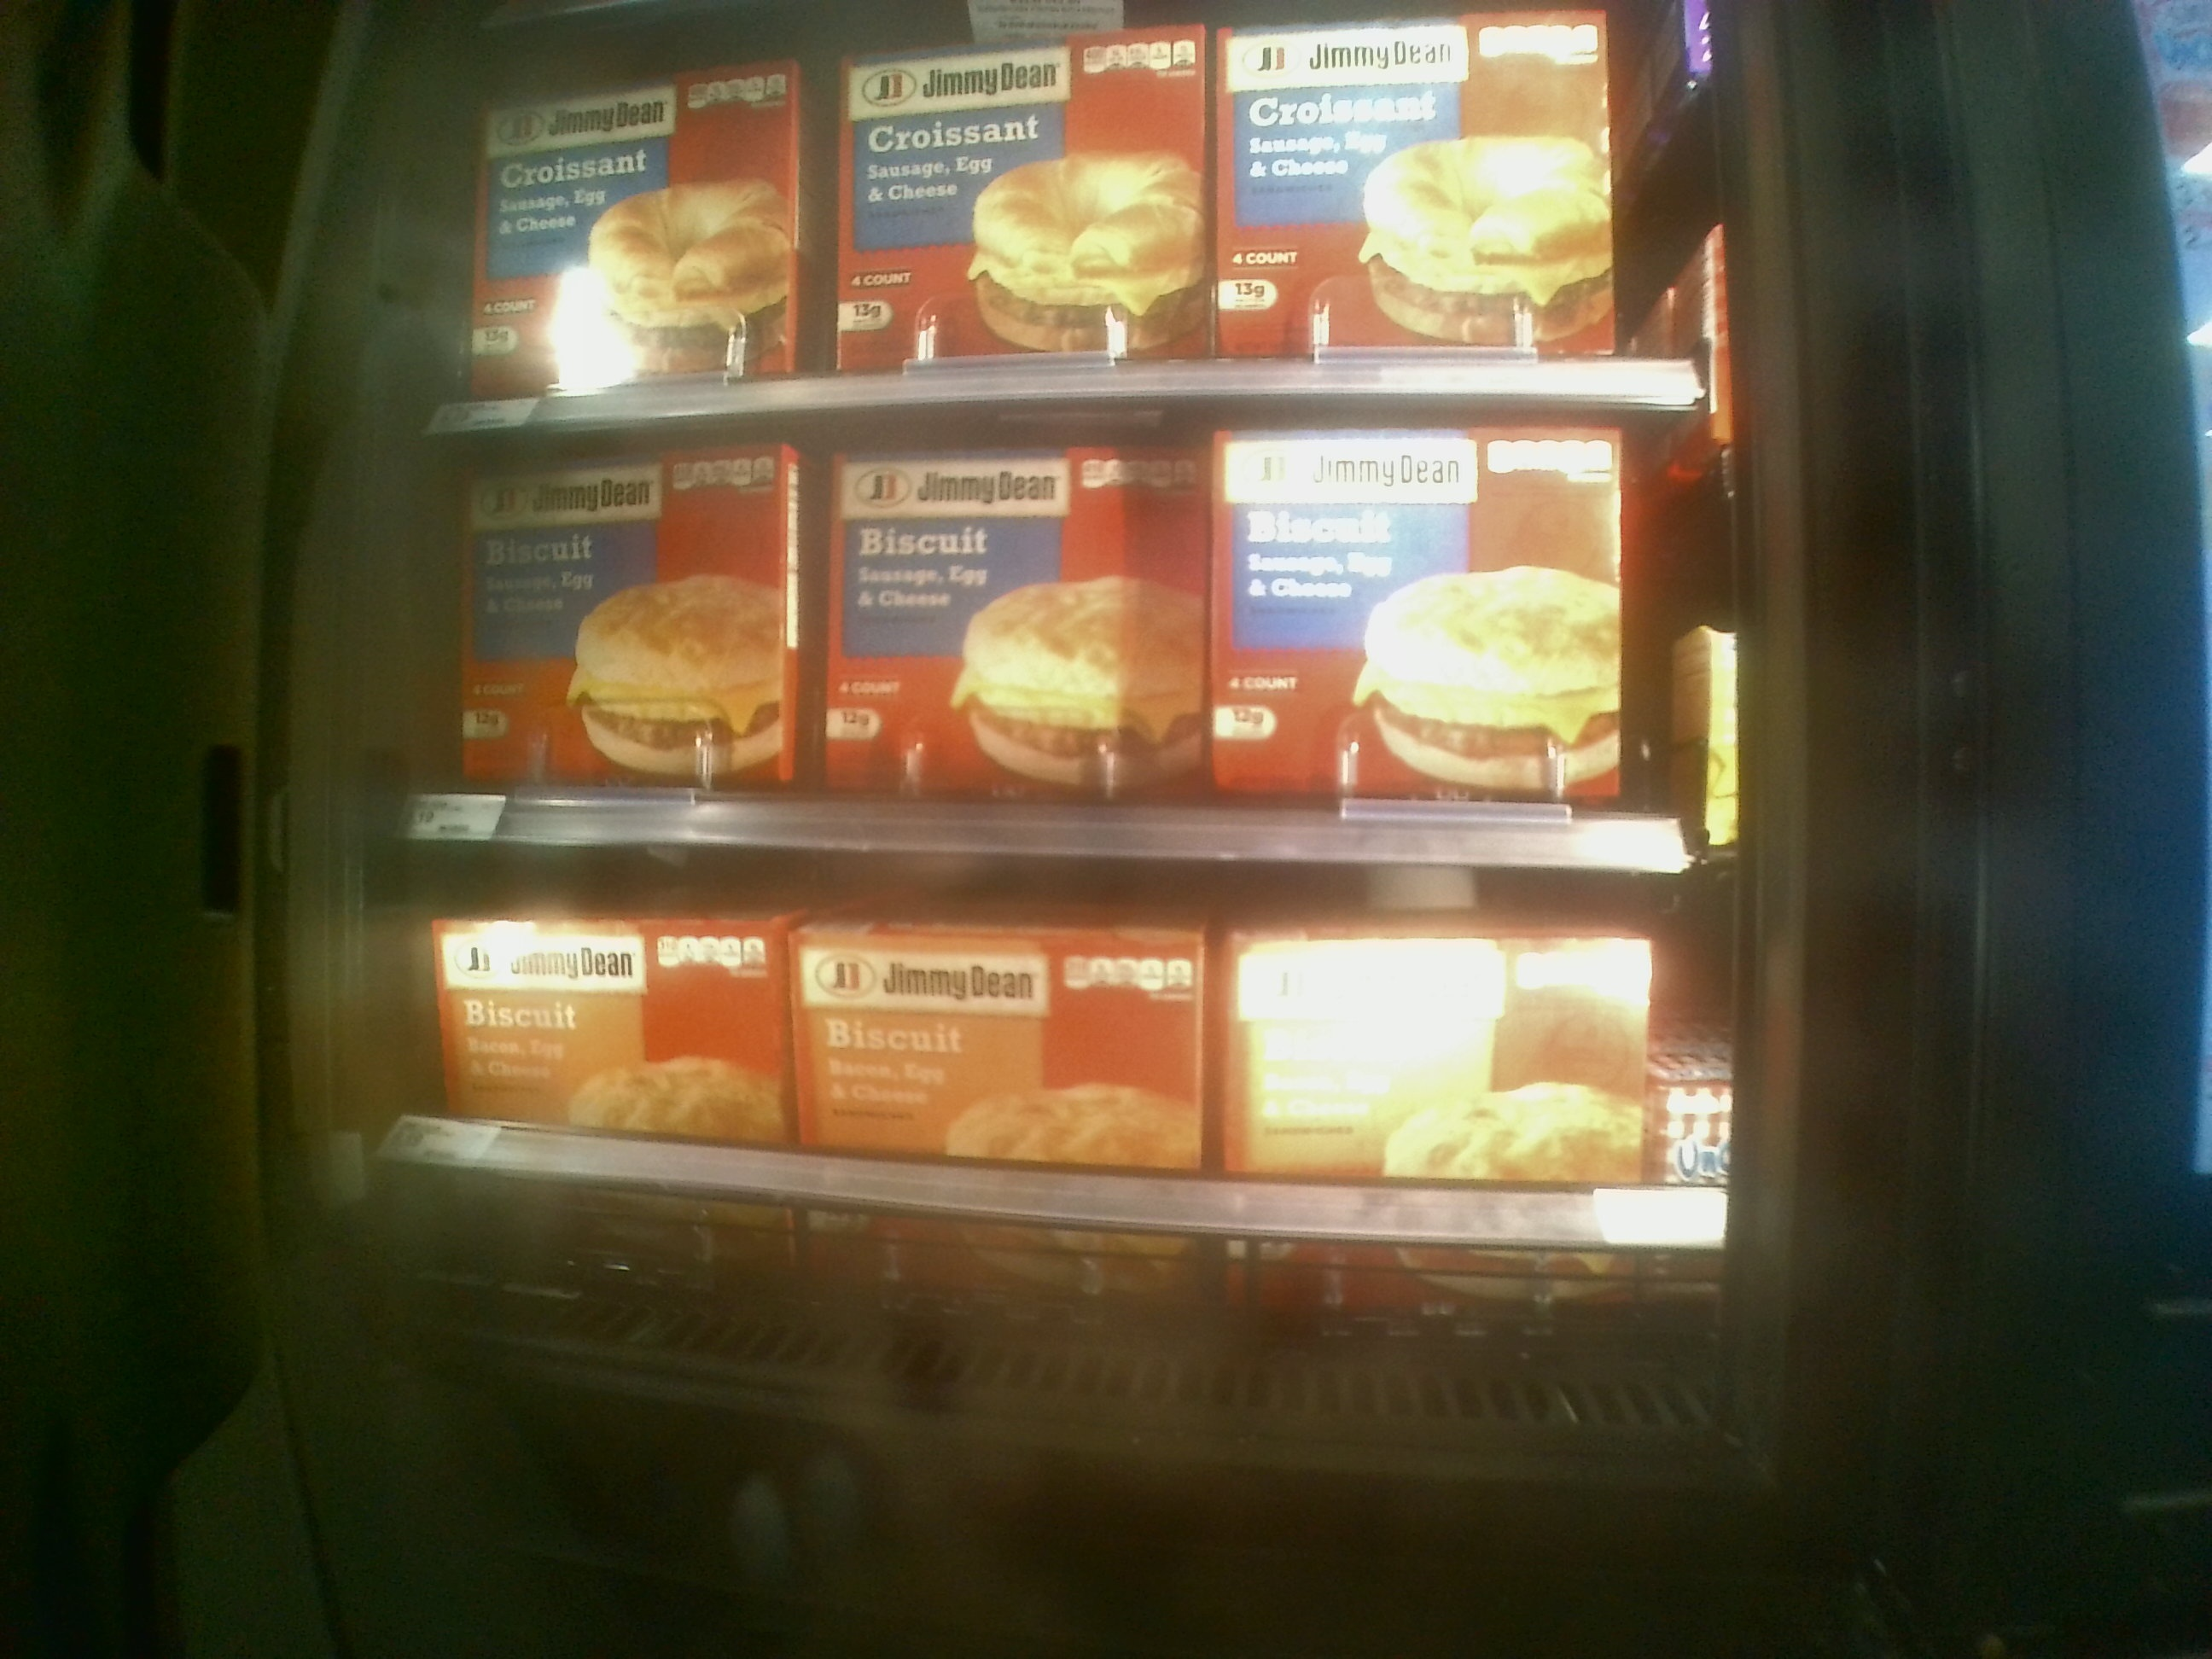shelf: (394, 852, 1726, 1359), (406, 387, 1737, 854)
